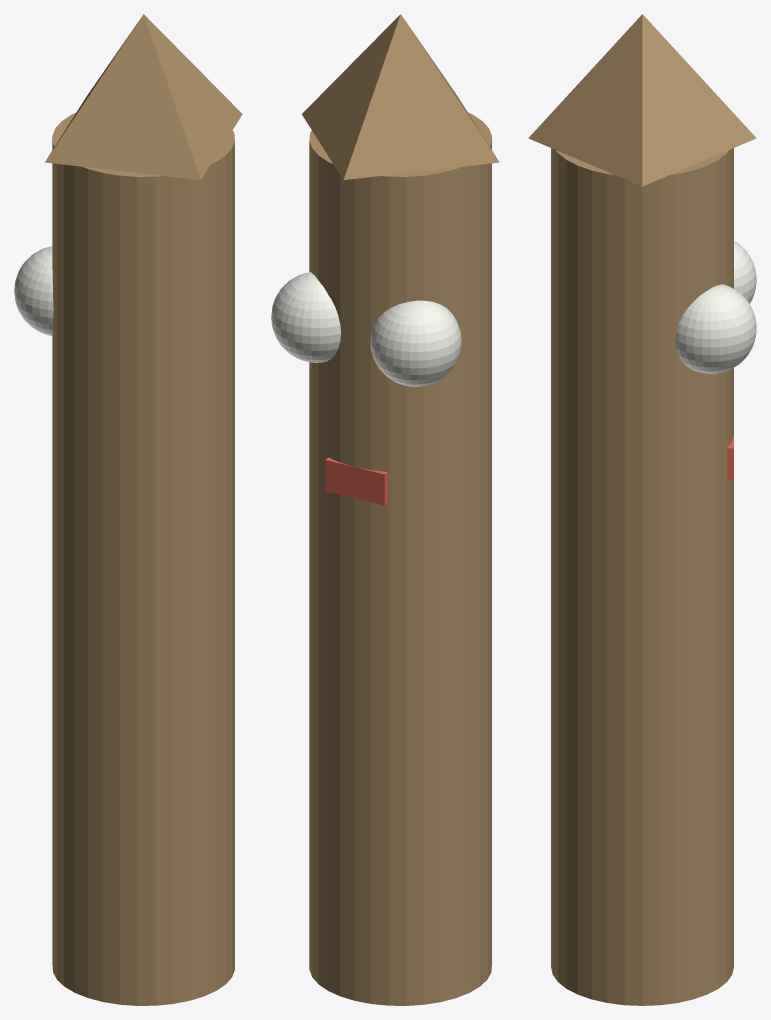
File: totem.glb
3 renders of one model, left to right at view 1: azimuth 30°, elevation 25°; view 2: azimuth 150°, elevation 25°; view 3: azimuth 270°, elevation 25°, orthographic.
Parts seen in each view (by area): view 1: Pole, Top, EyeL; view 2: Pole, Top, EyeL, EyeR, Mouth; view 3: Pole, Top, EyeR, EyeL.
Part boxes in pixels (left/top/right/bottom): Pole: left=52, top=113, right=234, bottom=1005; Top: left=45, top=14, right=242, bottom=179; EyeL: left=14, top=246, right=53, bottom=335; Pole: left=309, top=112, right=491, bottom=1005; Top: left=302, top=14, right=499, bottom=179; EyeL: left=370, top=300, right=461, bottom=386; EyeR: left=271, top=272, right=340, bottom=362; Mouth: left=325, top=457, right=387, bottom=505; Pole: left=551, top=148, right=733, bottom=1005; Top: left=528, top=14, right=756, bottom=186; EyeR: left=675, top=284, right=756, bottom=373; EyeL: left=734, top=241, right=756, bottom=303.
Size of the model in its own units: 0.1 by 0.46 by 0.1.
